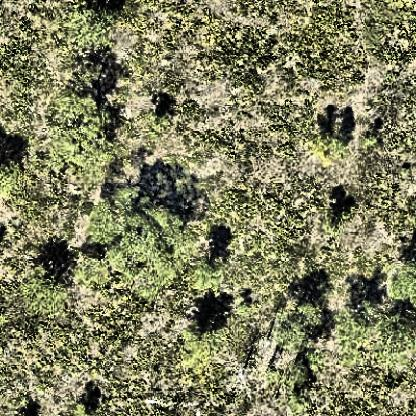tree-top: (77, 192, 182, 304), (43, 89, 120, 170), (265, 298, 329, 356), (59, 5, 119, 54), (18, 268, 71, 323), (267, 356, 318, 410), (304, 128, 352, 168), (177, 323, 225, 362), (184, 256, 228, 294), (384, 257, 416, 309), (1, 156, 33, 200), (319, 203, 351, 236)
